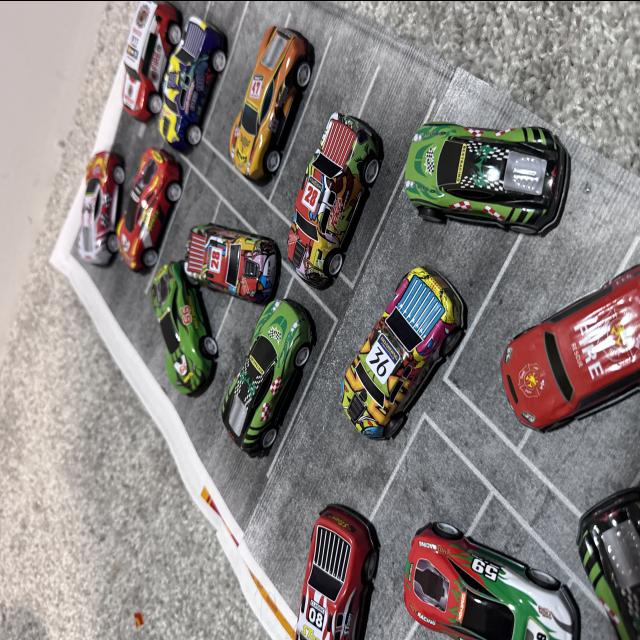car: (498, 250, 640, 445), (404, 517, 576, 640), (121, 266, 221, 452), (220, 283, 322, 461), (356, 276, 468, 436), (116, 0, 230, 155), (406, 118, 568, 215), (229, 21, 311, 177), (287, 140, 365, 288), (294, 499, 370, 640), (113, 138, 189, 274), (574, 492, 640, 640), (180, 224, 265, 298), (76, 158, 125, 263)
